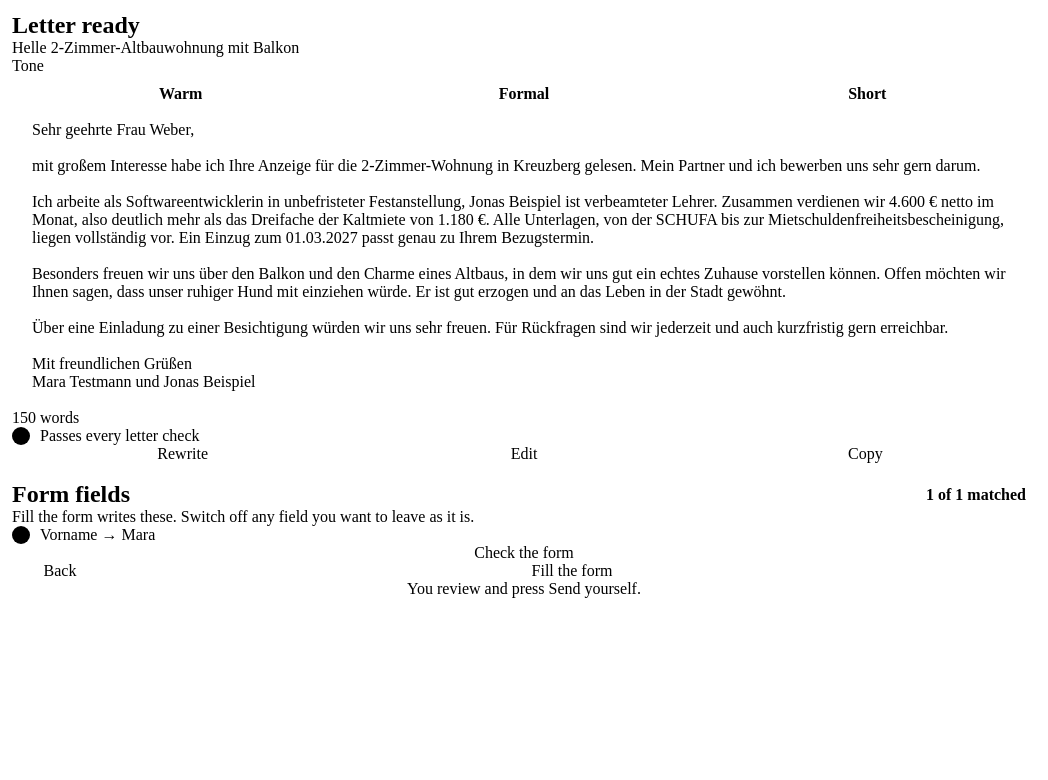
Test case: LetterReady › can not fill once every pair is switched off
Click the button "Vorname → Mara" at {"x": 69, "y": 534}, box x1=12 y1=526 x2=1036 y2=544
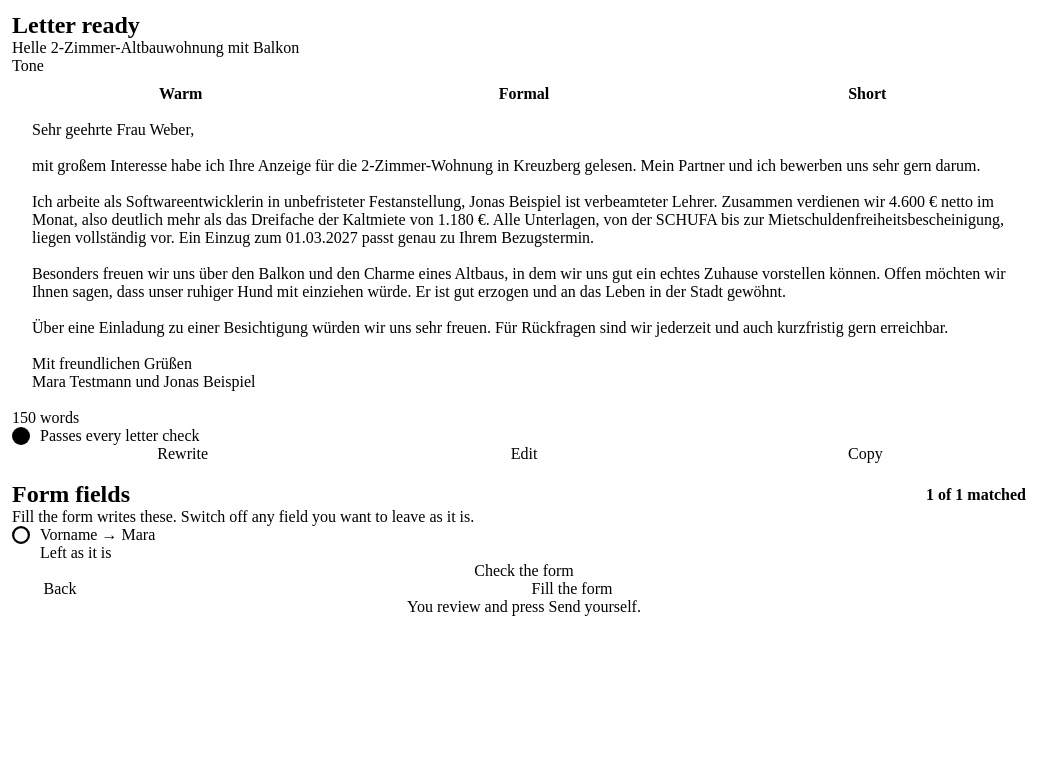
Result: the button "Fill the form" is disabled at x1=108 y1=580 x2=1036 y2=598
